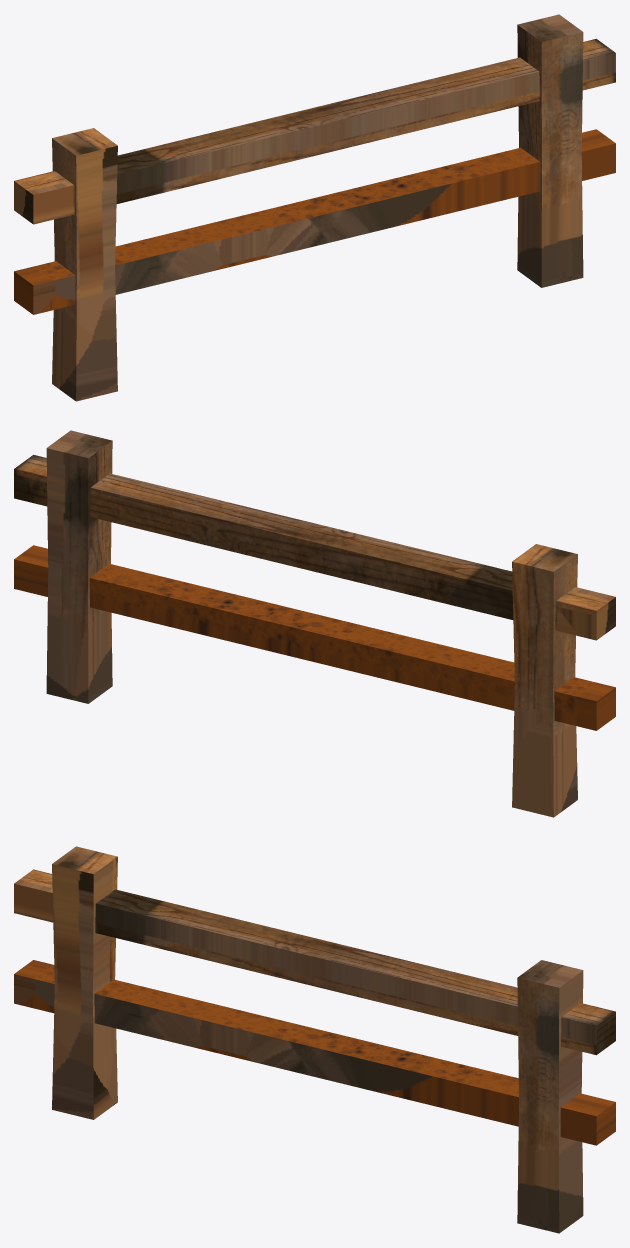
Rendered from StaccionataSpaccabile.fbx.
3 views of the same model, one above another, from view 1: azimuth 30°, elevation 25°; view 2: azimuth 150°, elevation 25°; view 3: azimuth 330°, elevation 25° (orthographic).
Visible parts, largest first — view 1: Staccionata.005, Staccionata.002, Staccionata.007, Staccionata.003, Staccionata.004, Staccionata.001, Staccionata.008, Staccionata.006; view 2: Staccionata.005, Staccionata.002, Staccionata.007, Staccionata.003, Staccionata.004, Staccionata.001, Staccionata.008, Staccionata.006; view 3: Staccionata.007, Staccionata.003, Staccionata.005, Staccionata.002, Staccionata.004, Staccionata.001, Staccionata.008, Staccionata.006.
Part boxes in pixels (box(x1,y1,x2,y2)): Staccionata.005: box(14, 200, 324, 314); Staccionata.002: box(14, 110, 324, 224); Staccionata.007: box(305, 129, 615, 243); Staccionata.003: box(305, 38, 615, 153); Staccionata.004: box(517, 14, 583, 164); Staccionata.001: box(52, 128, 117, 277); Staccionata.008: box(517, 155, 583, 287); Staccionata.006: box(52, 268, 117, 401); Staccionata.005: box(305, 616, 615, 730); Staccionata.002: box(305, 526, 615, 640); Staccionata.007: box(14, 545, 324, 659); Staccionata.003: box(14, 454, 324, 569); Staccionata.004: box(46, 430, 112, 580); Staccionata.001: box(512, 544, 577, 693); Staccionata.008: box(46, 571, 112, 703); Staccionata.006: box(512, 684, 577, 817); Staccionata.007: box(305, 1031, 615, 1145); Staccionata.003: box(305, 940, 615, 1055); Staccionata.005: box(14, 960, 323, 1074); Staccionata.002: box(14, 869, 324, 983); Staccionata.004: box(517, 960, 583, 1109); Staccionata.001: box(52, 846, 117, 995); Staccionata.008: box(517, 1100, 583, 1233); Staccionata.006: box(52, 986, 117, 1119).
Size of the model in its own units: 2.48 by 0.9994 by 0.1782.
